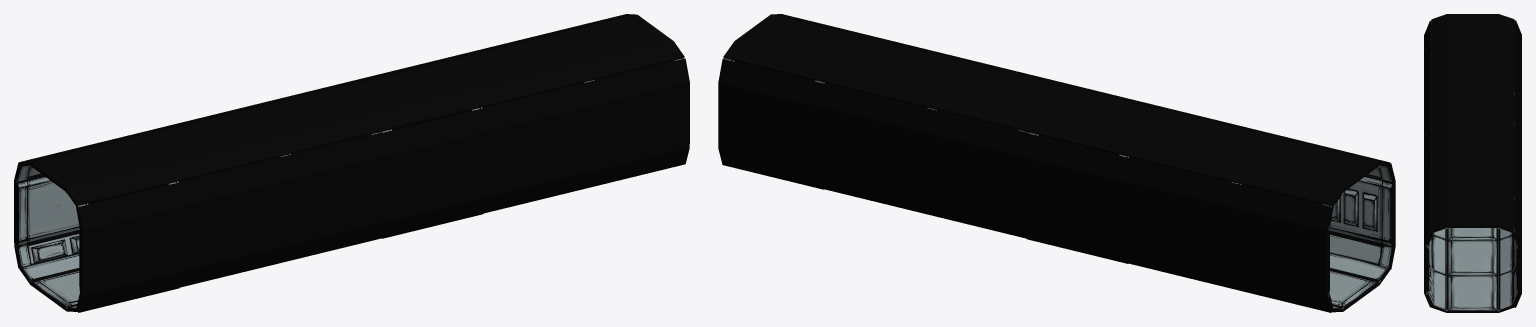
Rendered from gang test.fbx.
3 views of the same model, side by side, from view 1: azimuth 30°, elevation 25°; view 2: azimuth 150°, elevation 25°; view 3: azimuth 270°, elevation 25° (orthographic). The views are drawn at different scales.
Visible parts, largest first — view 1: Cube.055, Cylinder.035, Cube.031, Cylinder.053, Cylinder.054, Cylinder.040, Cylinder.060, Cylinder.042, Cylinder.059, Cylinder.041, Cylinder.061, Cylinder.043 (+4 smaller); view 2: Cylinder.063, Cylinder.044, Cylinder.062, Cylinder.045, Cube.044, Cube.066, Cylinder.060, Cylinder.061, Cylinder.043, Cylinder.041, Cylinder.059, Cylinder.042 (+5 smaller); view 3: Cylinder.043, Cylinder.051, Cylinder.041, Cylinder.042, Cylinder.060, Cylinder.059, Cylinder.061, Cylinder.050, Cylinder.052, Cube.044, Cylinder.040, Cylinder.044 (+11 smaller).
Boxes of the visible parts, bbox=[...] form: Cube.055: bbox=[77, 182, 183, 312]; Cylinder.035: bbox=[482, 83, 588, 213]; Cube.031: bbox=[382, 108, 487, 238]; Cylinder.053: bbox=[178, 157, 284, 287]; Cylinder.054: bbox=[281, 132, 386, 262]; Cylinder.040: bbox=[584, 58, 689, 188]; Cylinder.060: bbox=[19, 137, 178, 205]; Cylinder.042: bbox=[324, 63, 481, 131]; Cylinder.059: bbox=[121, 112, 279, 181]; Cylinder.041: bbox=[425, 38, 583, 107]; Cylinder.061: bbox=[222, 88, 380, 156]; Cylinder.043: bbox=[526, 14, 684, 82]; Cylinder.063: bbox=[1225, 182, 1332, 312]; Cylinder.044: bbox=[819, 83, 925, 213]; Cylinder.062: bbox=[1124, 157, 1230, 287]; Cylinder.045: bbox=[921, 108, 1027, 238]; Cube.044: bbox=[718, 59, 823, 189]; Cube.066: bbox=[1022, 133, 1128, 263]; Cylinder.060: bbox=[1230, 137, 1390, 207]; Cylinder.061: bbox=[1027, 88, 1186, 156]; Cylinder.043: bbox=[723, 14, 881, 82]; Cylinder.041: bbox=[825, 38, 984, 107]; Cylinder.059: bbox=[1129, 113, 1287, 181]; Cylinder.042: bbox=[926, 63, 1085, 131]; Cylinder.043: bbox=[1431, 190, 1514, 232]; Cylinder.051: bbox=[1431, 270, 1513, 312]; Cylinder.041: bbox=[1431, 155, 1514, 195]; Cylinder.042: bbox=[1431, 120, 1514, 160]; Cylinder.060: bbox=[1431, 14, 1514, 54]; Cylinder.059: bbox=[1431, 49, 1514, 89]; Cylinder.061: bbox=[1431, 84, 1514, 124]; Cylinder.050: bbox=[1432, 235, 1513, 275]; Cylinder.052: bbox=[1433, 228, 1512, 240]; Cube.044: bbox=[1513, 197, 1521, 307]; Cylinder.040: bbox=[1424, 197, 1431, 307]; Cylinder.044: bbox=[1513, 161, 1521, 267].
Bounding box in the file's own units: 2053 × 394 × 401.
